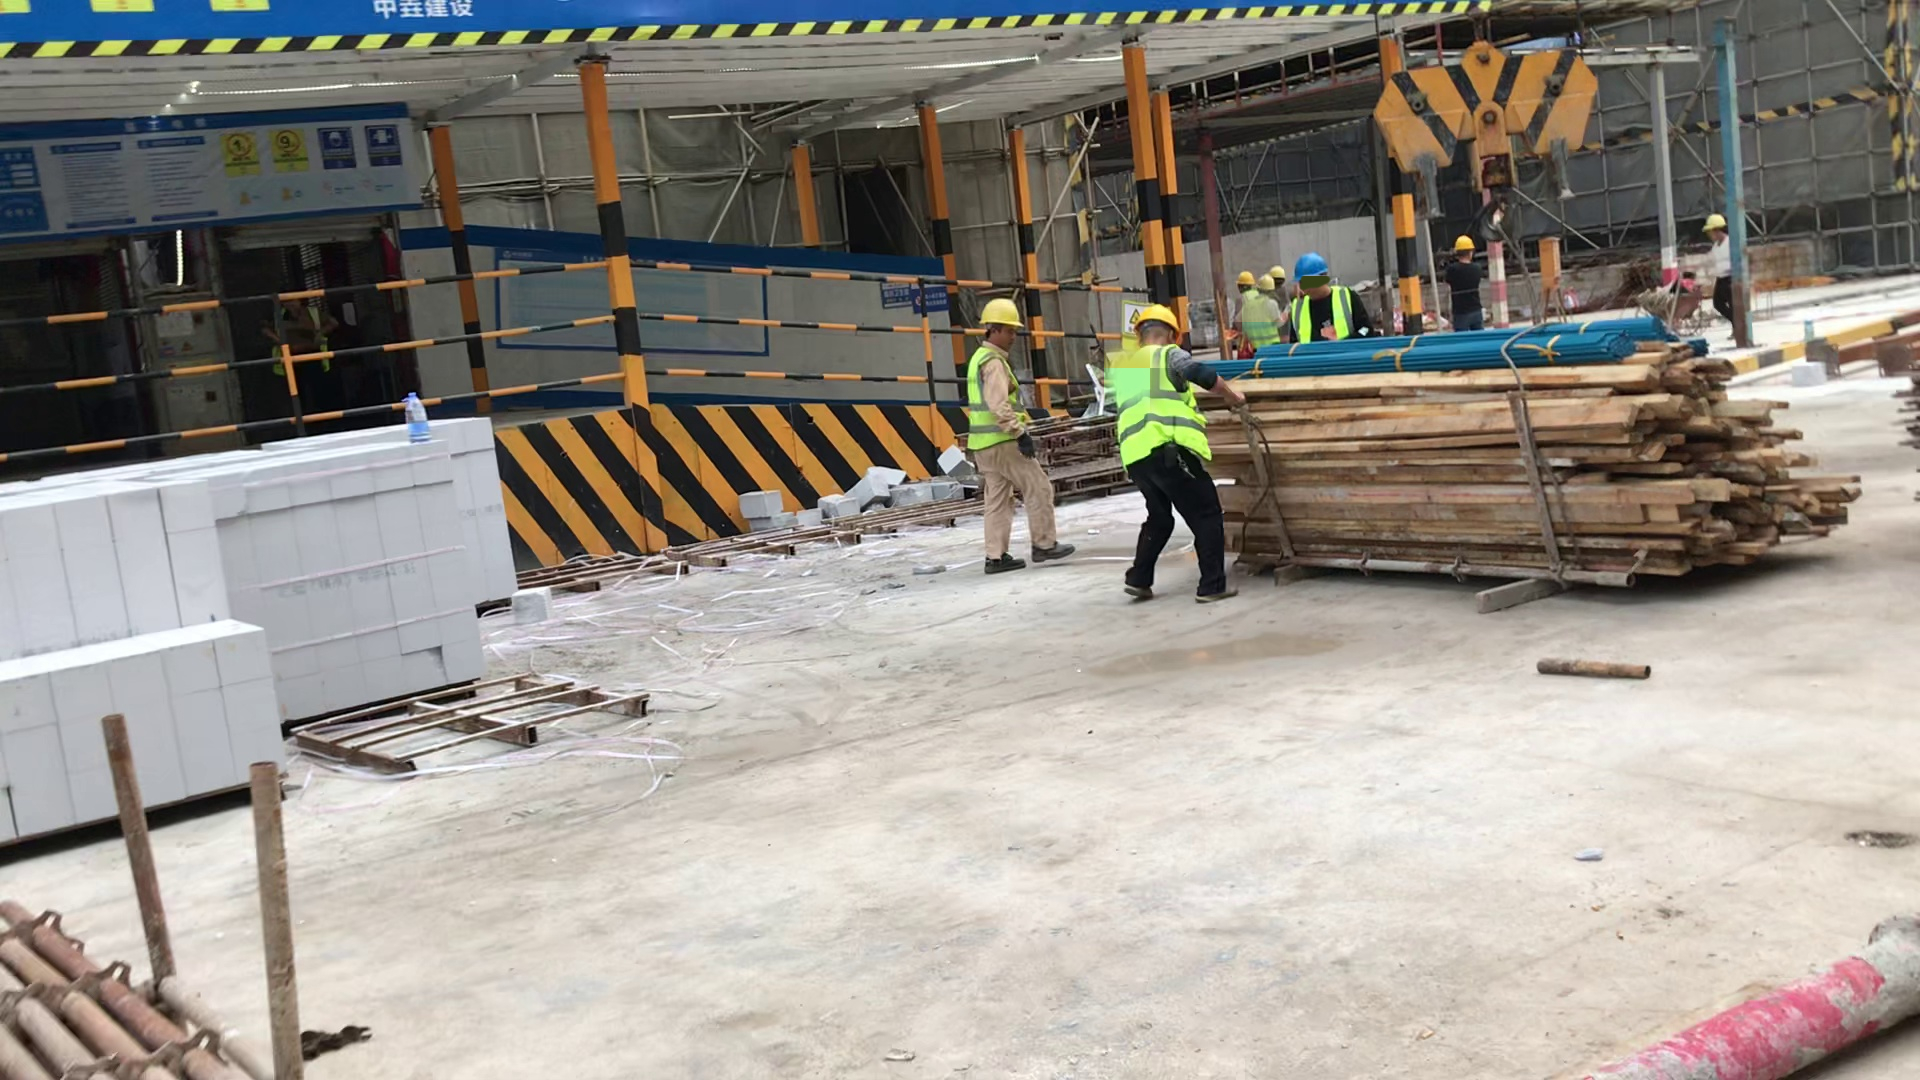brick: (88, 447, 483, 704), (1, 493, 289, 841)
ebox: (1533, 243, 1564, 319)
handcart: (1646, 291, 1698, 333)
helmet: (1133, 304, 1182, 338), (979, 299, 1025, 328), (1295, 254, 1335, 280), (1452, 236, 1475, 250), (1702, 215, 1726, 230), (1257, 274, 1275, 292), (1237, 272, 1251, 285), (1270, 266, 1284, 278)
hook: (1374, 41, 1598, 241)
person: (1113, 301, 1244, 607), (966, 296, 1079, 572), (1290, 257, 1373, 345), (1700, 214, 1742, 335), (1446, 235, 1483, 334), (1248, 276, 1282, 350), (1230, 271, 1253, 330)
scaffold: (1, 899, 279, 1080)
slogan: (215, 122, 409, 210)
vest: (1116, 349, 1209, 461), (969, 349, 1028, 449), (1290, 293, 1356, 347), (1246, 303, 1279, 354)
wood: (1202, 361, 1842, 597)
